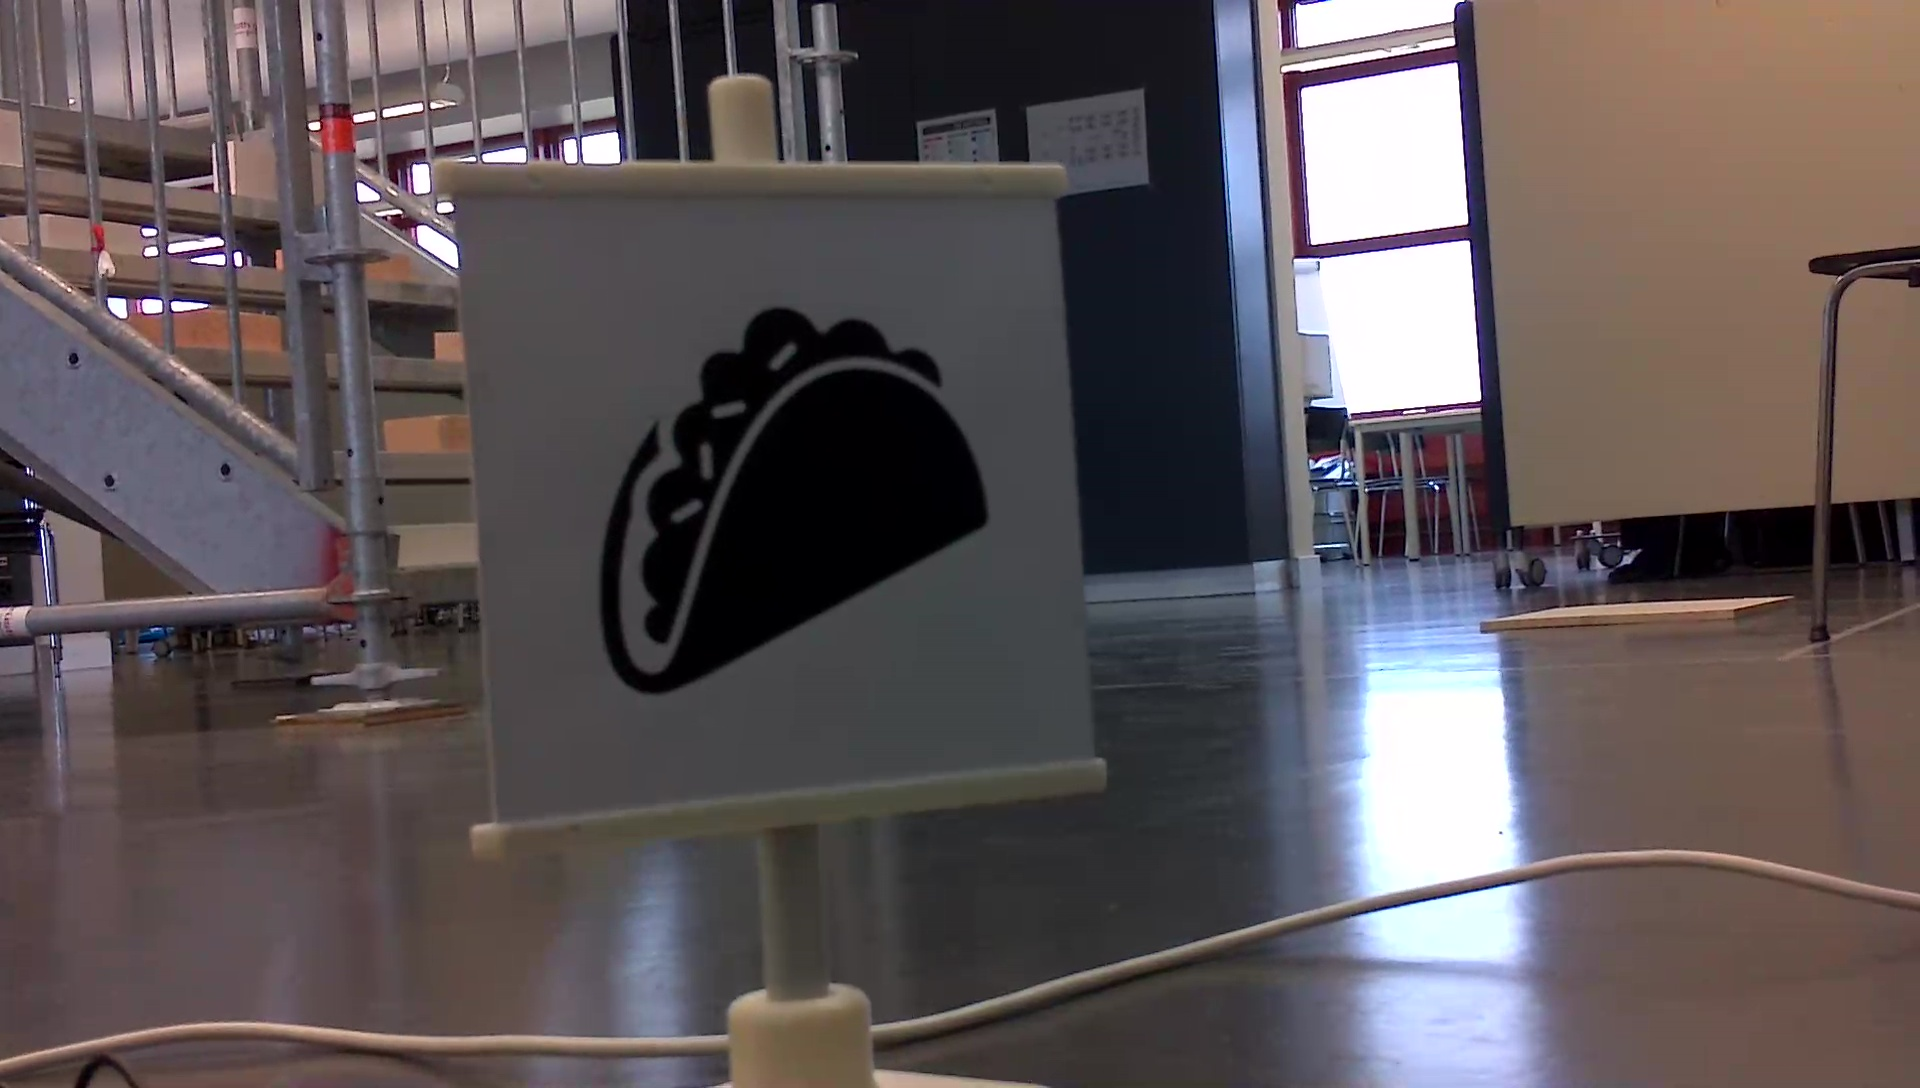brick: (396, 521, 477, 564), (385, 415, 471, 454)
taco: (580, 295, 1004, 708)
